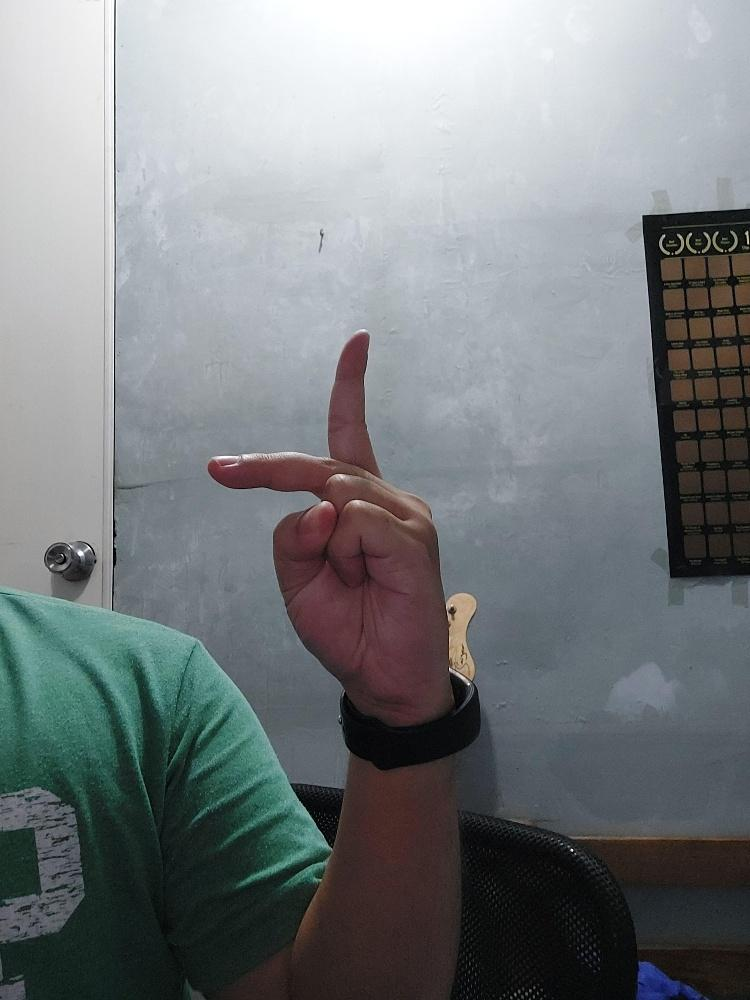k: (206, 321, 453, 714)
